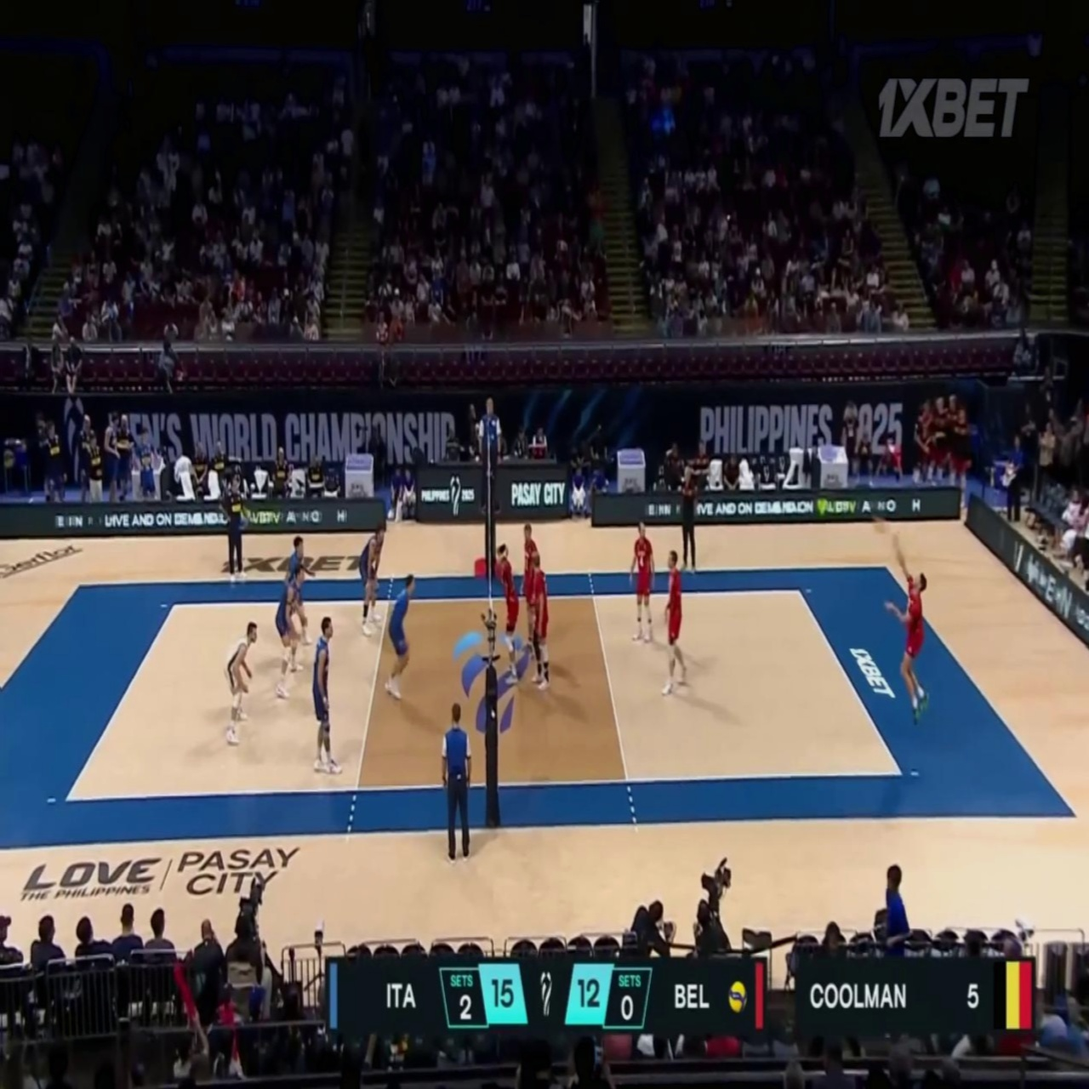ball: (871, 513, 887, 532)
